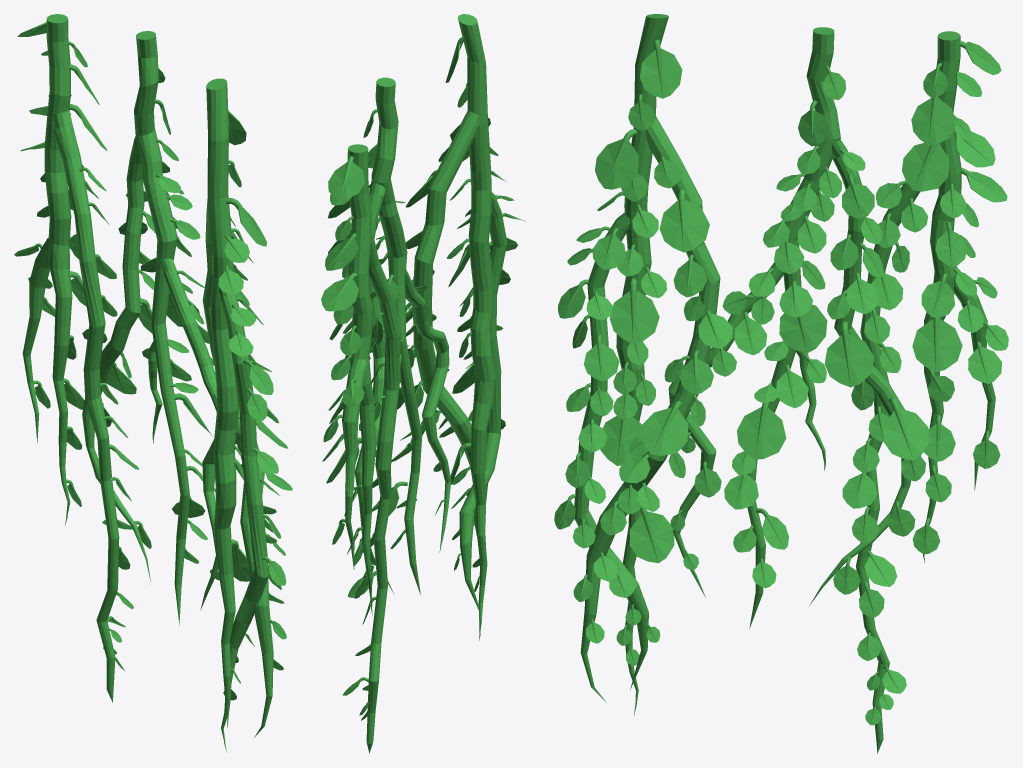
Rendered from vine_vines_ranking.glb.
The picture shows the model from 3 angles, left to right: view 1: azimuth 30°, elevation 25°; view 2: azimuth 150°, elevation 25°; view 3: azimuth 270°, elevation 25°; orthographic projection. The views are drawn at different scales.
Parts seen in each view (by area): view 1: Node; view 2: Node; view 3: Node.
Part boxes in pixels (x1,y1,x2,y2): Node: (14, 14, 292, 752); Node: (321, 14, 525, 753); Node: (554, 14, 1008, 753).
Size of the model in its own units: 1.32 by 7.47 by 4.16.
